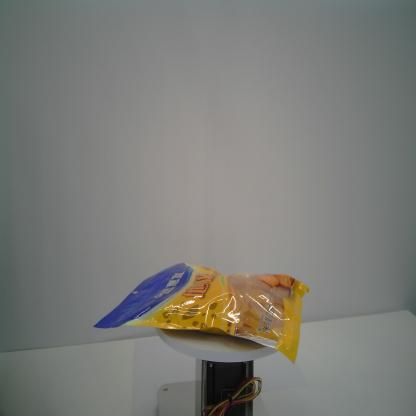Dried Fruit: (90, 258, 312, 369)
